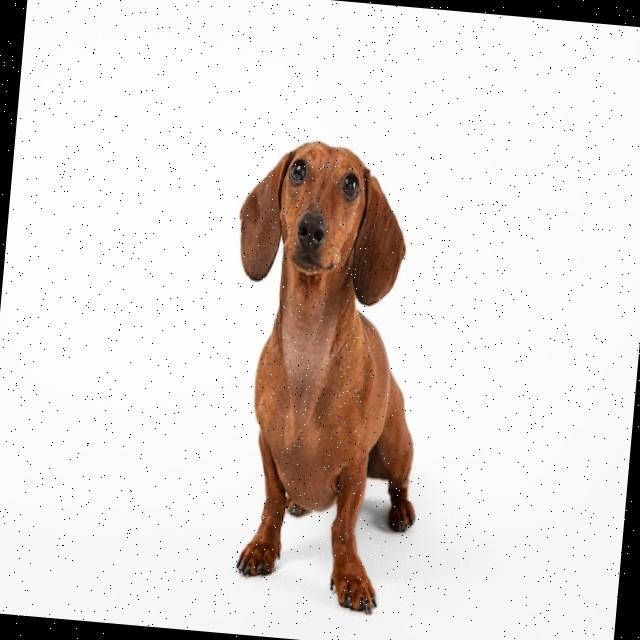Dog: (204, 136, 446, 614)
